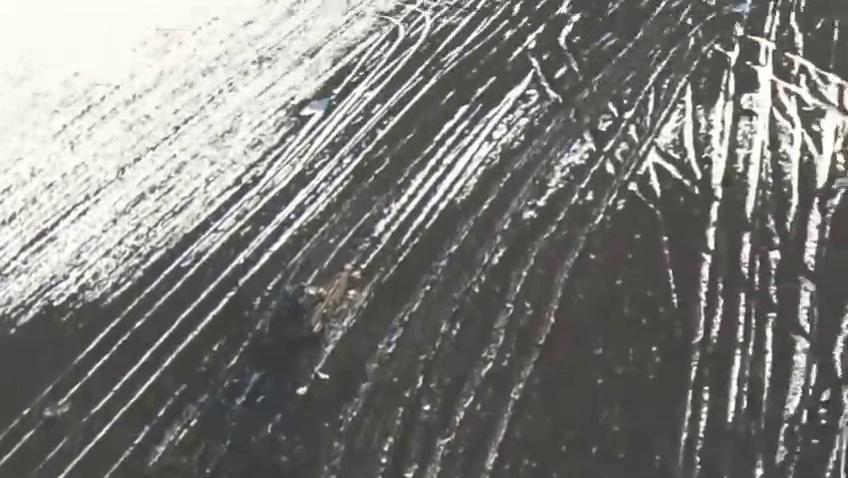sau: (268, 260, 350, 348)
